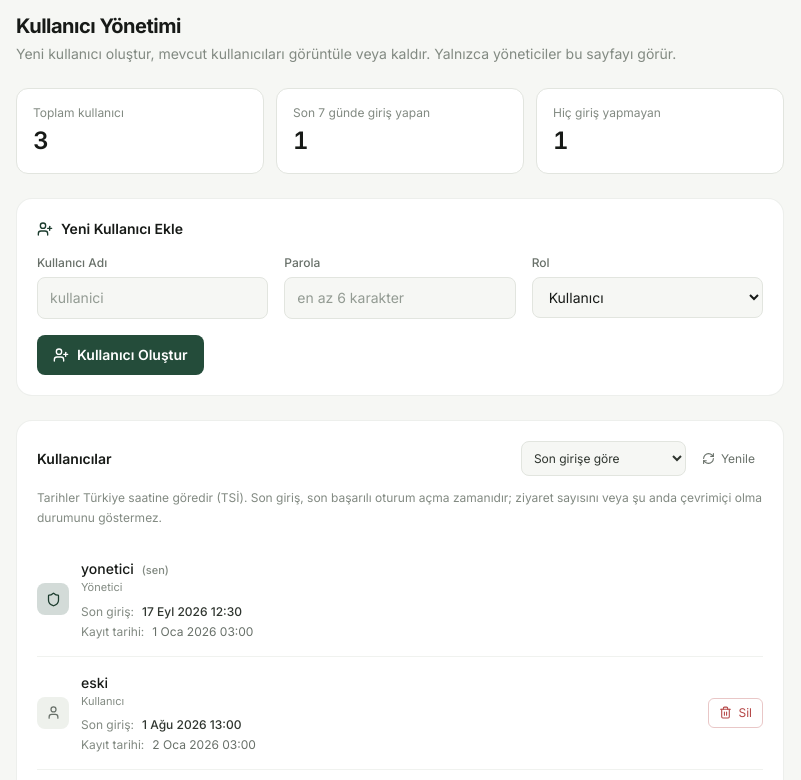
it: yönetici giriş bilgileri › yenileme başarısızsa mevcut listeyi korur ve eski bilgiyi gösterdiğini belirtir
Check: the text "yonetici" is shown, box [81, 560, 134, 577]
Step 1. Click the button "Yenile" → (728, 458), box [694, 442, 763, 474]
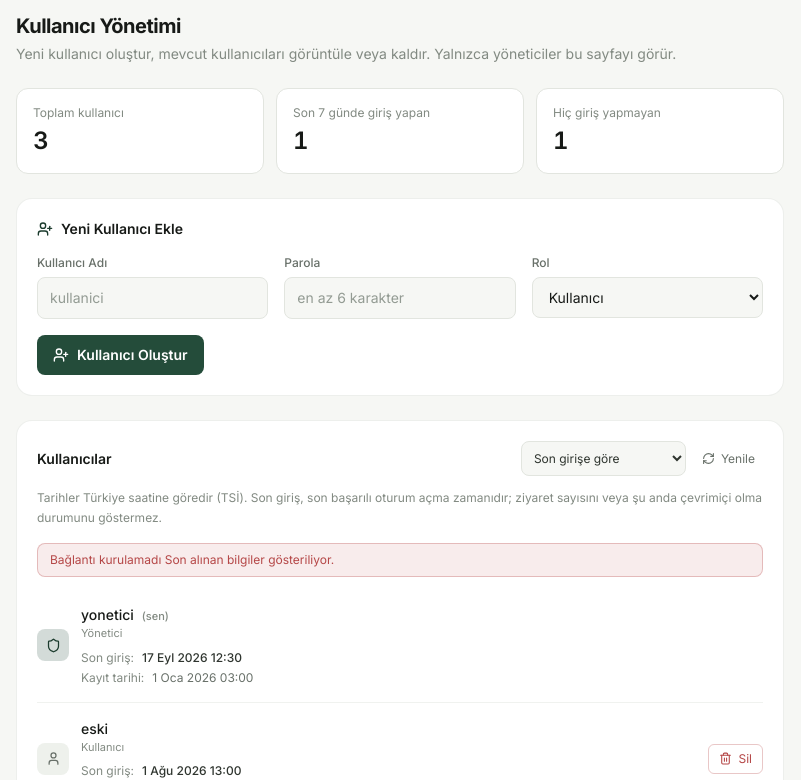
Check: the message shows "Son alınan bilgiler gösteriliyor", box [161, 552, 334, 567]
